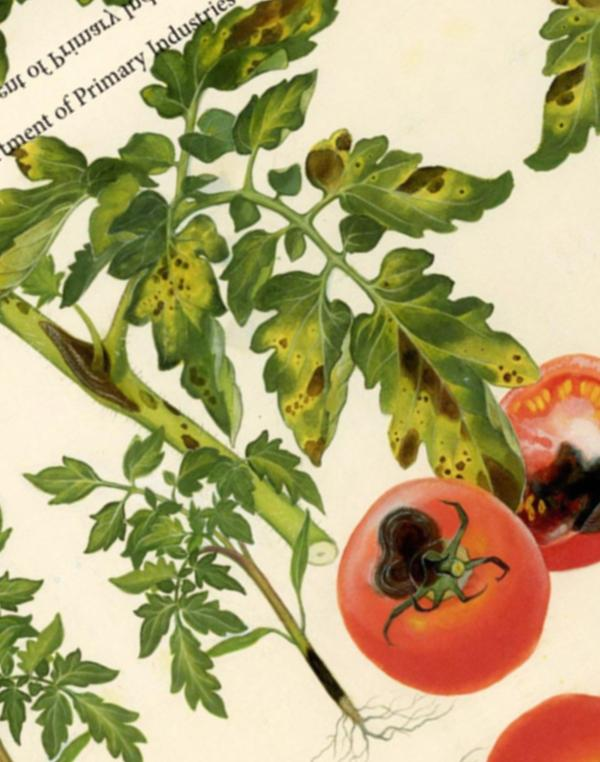Tomato Early blight leaf: (325, 217, 600, 537), (272, 47, 534, 302), (84, 199, 295, 446), (213, 257, 405, 465), (0, 115, 129, 357), (134, 0, 358, 132)
